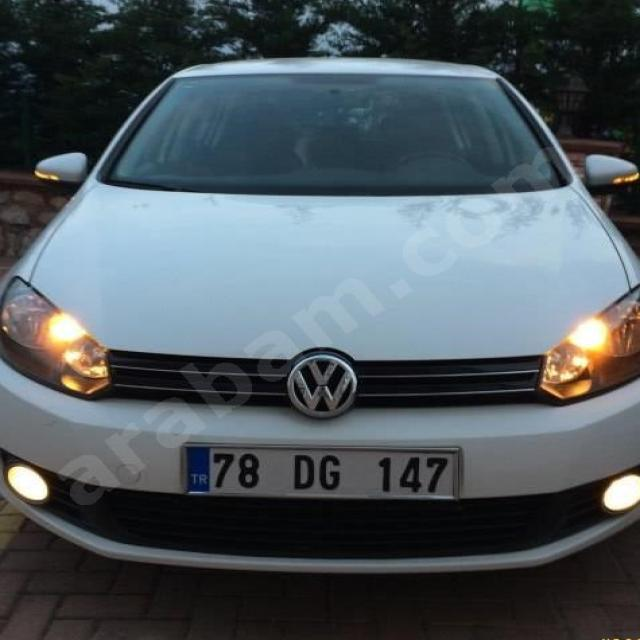license_plate: (184, 447, 456, 495)
